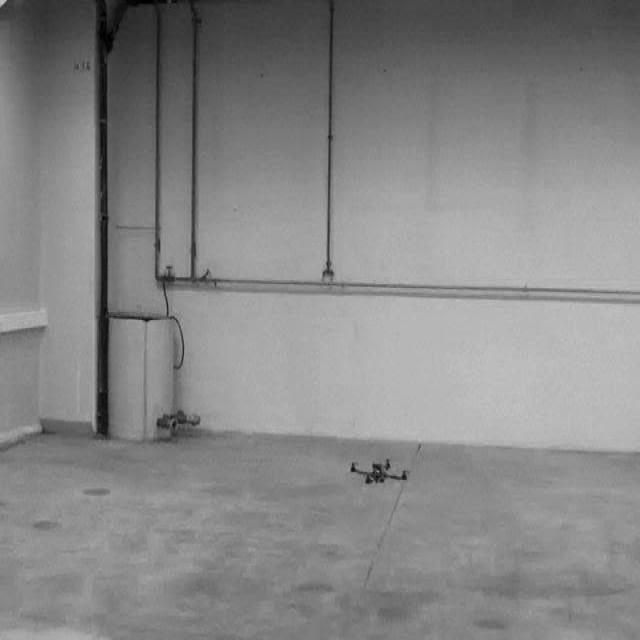drone: (350, 458, 411, 488)
